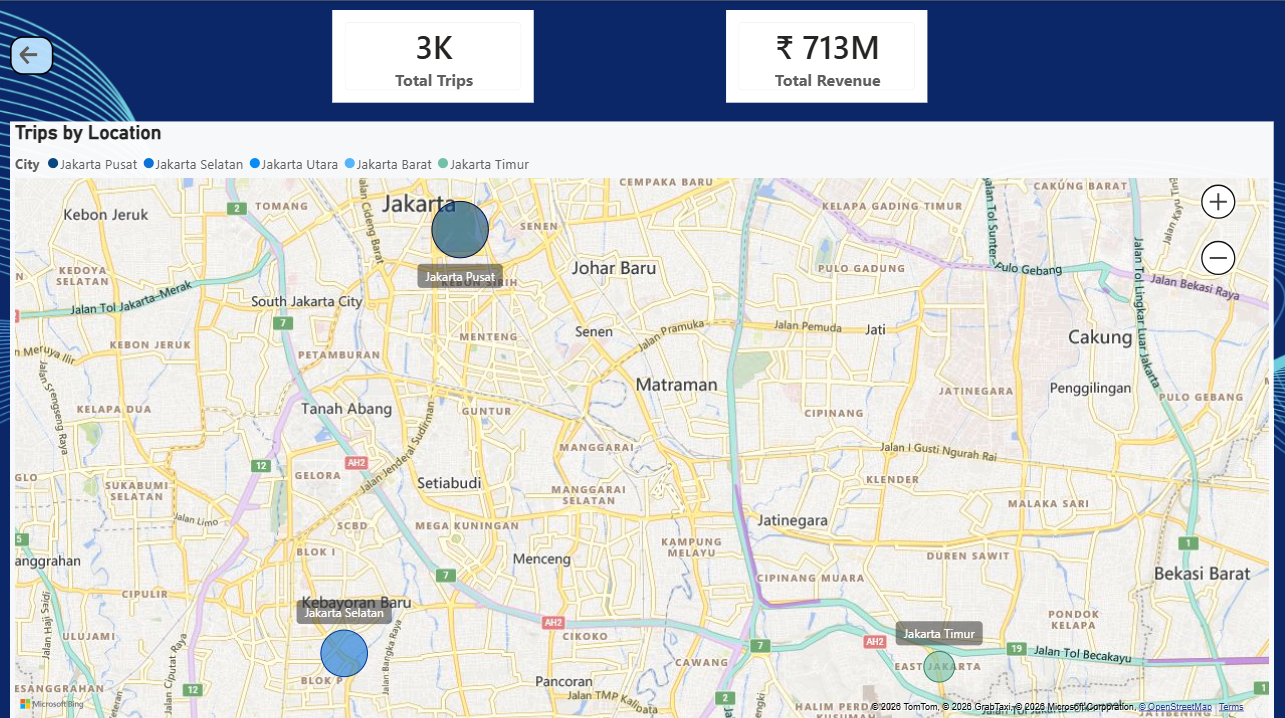

The dashboard page shown, as its layout file describes it:
{"tool":"powerbi","page":{"name":"Location Analysis","canvas":[1280,720],"ordinal":2},"visuals":[{"type":"map","title":"Trips by Location","fields":{"Size":["Ride_Booking_Details.Total Trips"],"Series":["Location_Details.City"],"Category":["Location_Details.City"]},"box":[10,120.7,1257.6,599.6],"z":0},{"type":"actionButton","box":[10,36.1,43.5,38.6],"z":1000},{"type":"cardVisual","fields":{"Data":["Online_Car_Details.Total Trips"]},"box":[330.9,10,200.3,92.1],"z":2000},{"type":"cardVisual","fields":{"Data":["Online_Car_Details.Total Revenue"]},"box":[722.7,10,200.3,92.1],"z":3000}]}

Visuals, with their boxes in screenshot pixels (x1, y1, x2, y2), scaled from the page's 1280x720 canvas onto the 1285x718 screenshot:
"Trips by Location" map: Rect(10, 120, 1273, 717)
actionButton: Rect(10, 36, 54, 74)
cardVisual - Online_Car_Details.Total Trips: Rect(332, 10, 533, 102)
cardVisual - Online_Car_Details.Total Revenue: Rect(726, 10, 927, 102)
